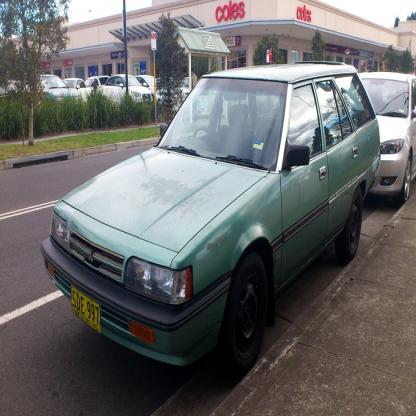Car: (49, 58, 379, 373), (1, 75, 192, 113), (360, 72, 416, 201)
